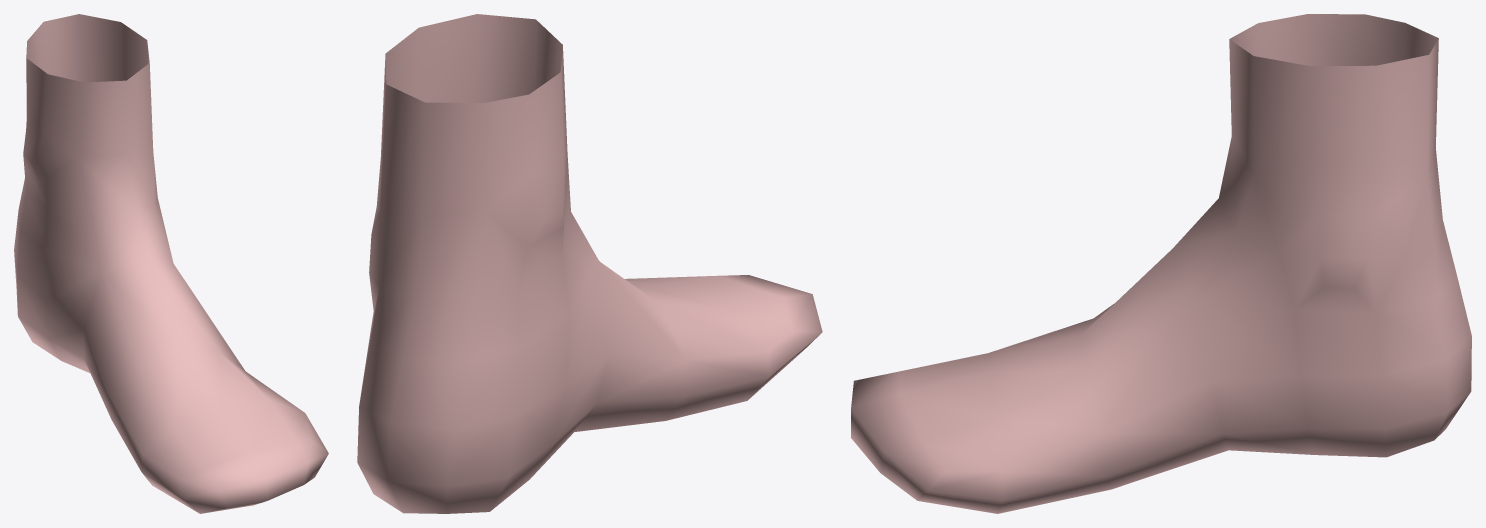
The model's file is Base_Female_A_Foot02.fbx.
3 views of the same model, side by side, from view 1: azimuth 30°, elevation 25°; view 2: azimuth 150°, elevation 25°; view 3: azimuth 270°, elevation 25° (orthographic). The views are drawn at different scales.
Visible parts, largest first — view 1: Base_Female_A_Foot02; view 2: Base_Female_A_Foot02; view 3: Base_Female_A_Foot02.
Boxes of the visible parts, bbox=[...] form: Base_Female_A_Foot02: bbox=[14, 14, 328, 513]; Base_Female_A_Foot02: bbox=[357, 14, 822, 513]; Base_Female_A_Foot02: bbox=[851, 14, 1471, 513].
Bounding box in the file's own units: 0.5648 × 1.06 × 1.38.
